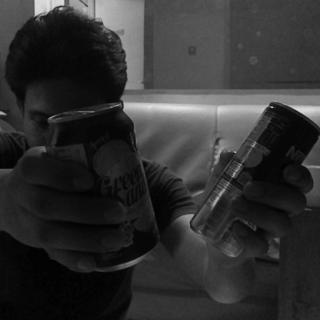alumunium_can: (187, 102, 320, 260), (45, 98, 160, 271)
